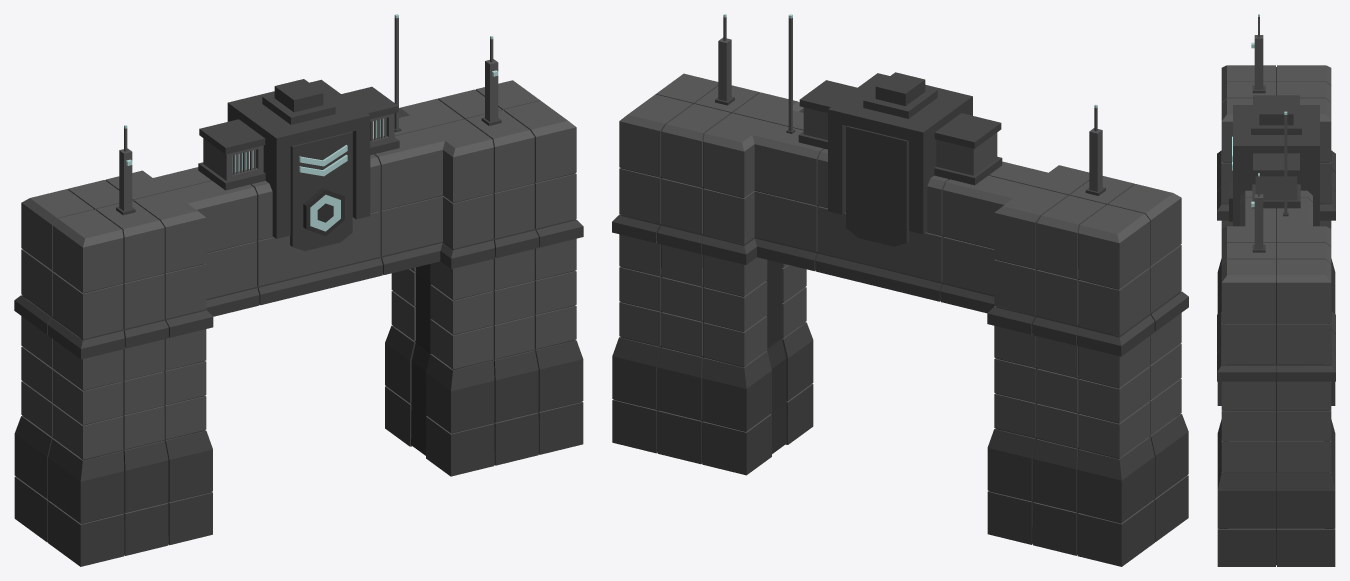
The model's file is SM_BigFence_03.fbx.
3 renders of one model, left to right at view 1: azimuth 30°, elevation 25°; view 2: azimuth 150°, elevation 25°; view 3: azimuth 270°, elevation 25°, orthographic. The views are drawn at different scales.
Parts seen in each view (by area): view 1: SM_BigFence_03; view 2: SM_BigFence_03; view 3: SM_BigFence_03.
Part boxes in pixels (x1,y1,x2,y2): SM_BigFence_03: (14, 14, 583, 566); SM_BigFence_03: (612, 14, 1188, 566); SM_BigFence_03: (1217, 14, 1335, 566).
Bounding box in the file's own units: 1018 × 847 × 234.
